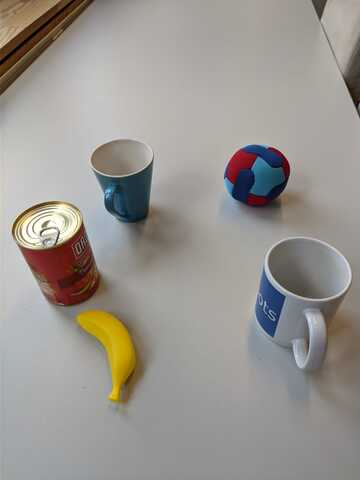005_tomato_soup_can: (11, 200, 107, 309)
011_banana: (73, 308, 142, 404)
025_mug: (254, 237, 353, 372), (87, 139, 158, 222)
057_racquetball: (225, 145, 292, 207)
